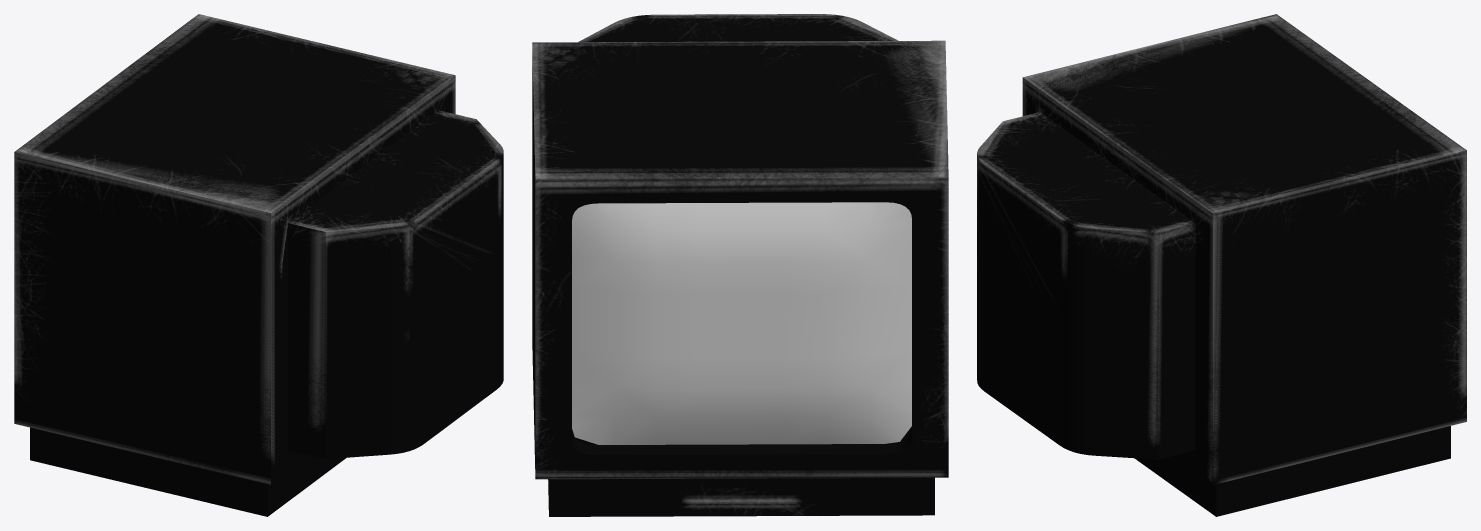
Rendered from tv_texured.fbx.
3 views of the same model, side by side, from view 1: azimuth 30°, elevation 25°; view 2: azimuth 150°, elevation 25°; view 3: azimuth 270°, elevation 25° (orthographic). The views are drawn at different scales.
Visible parts, largest first — view 1: Box002.003; view 2: Box002.003; view 3: Box002.003.
Part boxes in pixels (<box>): Box002.003: <box>14,14,503,516</box>; Box002.003: <box>532,14,948,516</box>; Box002.003: <box>977,14,1466,516</box>.
Size of the model in its own units: 52.62 by 38.14 by 54.56.
